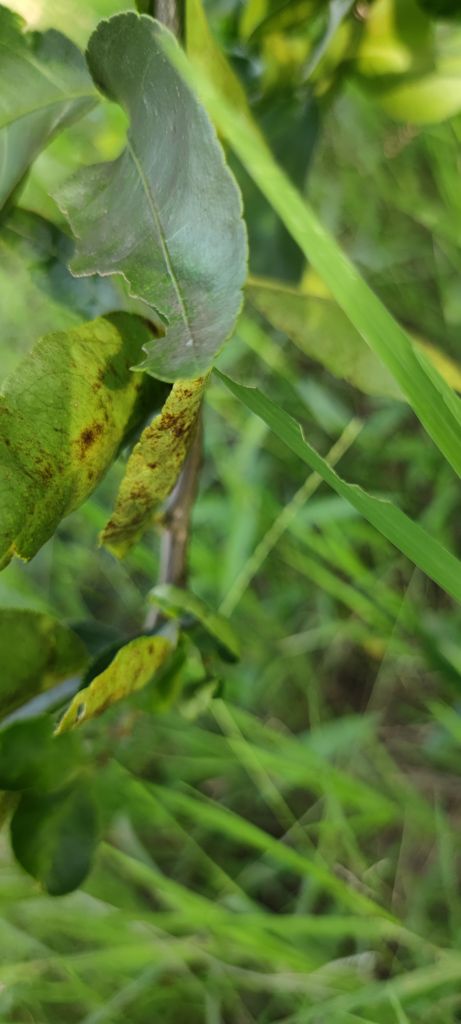Canker: (51, 633, 180, 739), (96, 465, 175, 549), (135, 384, 207, 474), (64, 401, 119, 462), (20, 450, 72, 498), (79, 346, 127, 397), (80, 464, 96, 483)
